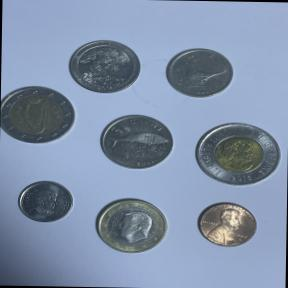1 Euro-B: (89, 194, 174, 258)
2 Euro-B: (0, 83, 77, 148)
Canada-10cent-B: (14, 178, 76, 228)
Canada-2Dollar-B: (189, 118, 285, 194)
Croatia-2Kune-B: (96, 112, 176, 177)
US-1cent-B: (192, 198, 261, 252)
US-25cent-B: (65, 36, 145, 97)
